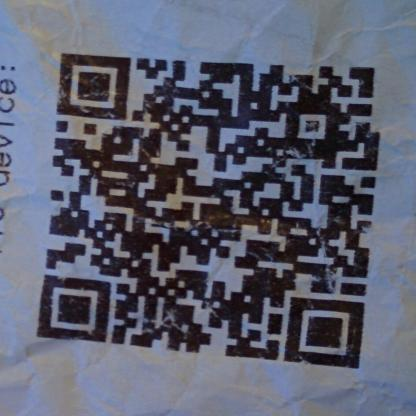qr: (30, 46, 386, 379)
